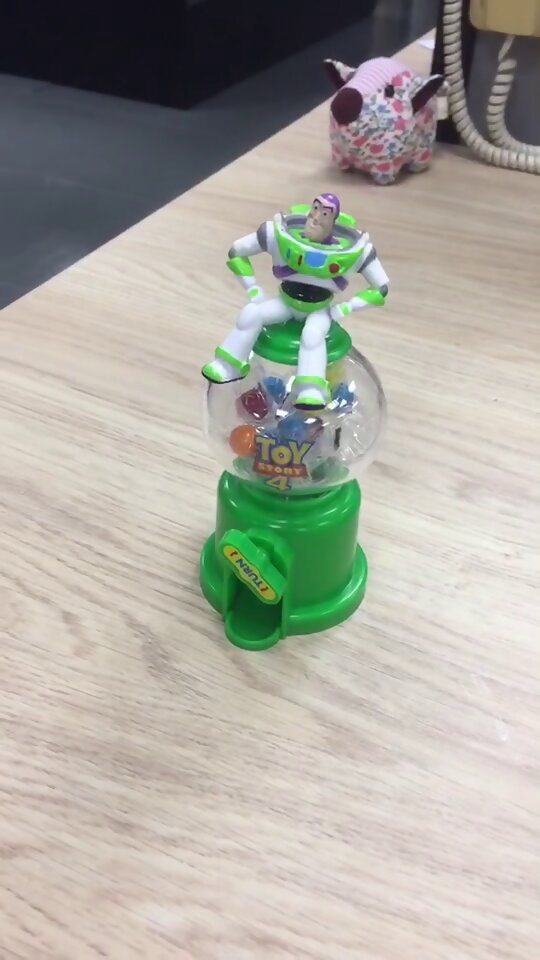buzz: (194, 188, 394, 655)
